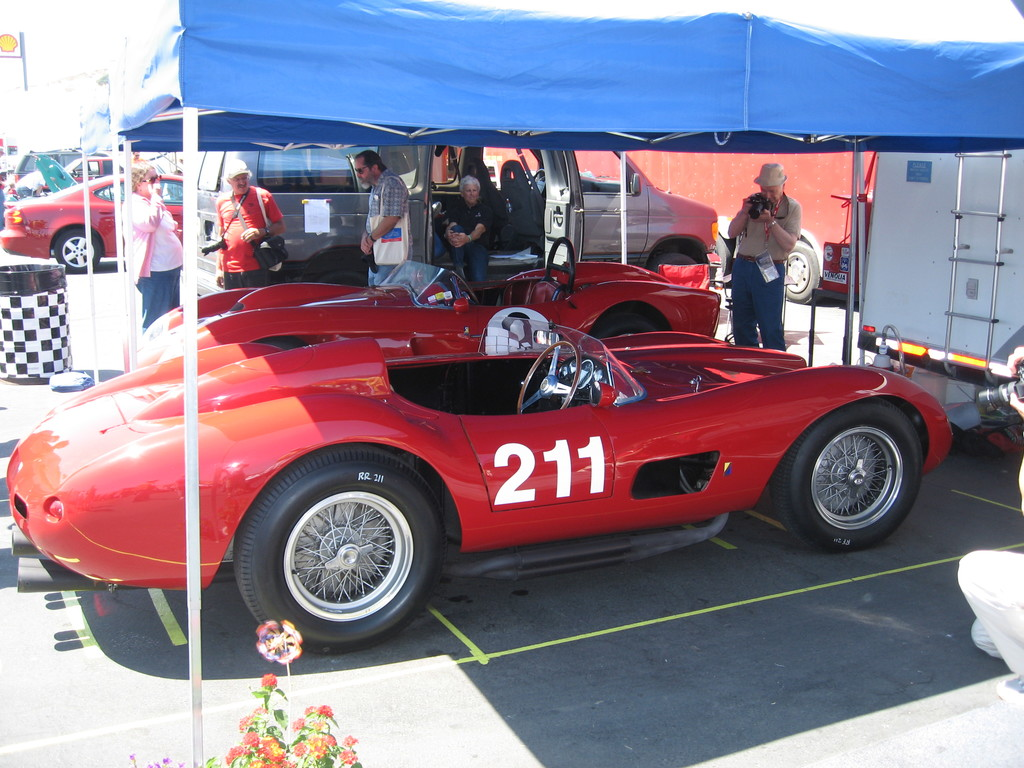Car: (5, 309, 954, 647), (131, 230, 732, 345), (0, 164, 180, 270), (14, 153, 107, 202)
